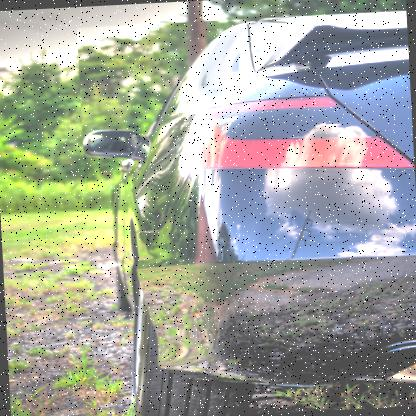Car: (74, 9, 415, 415)
